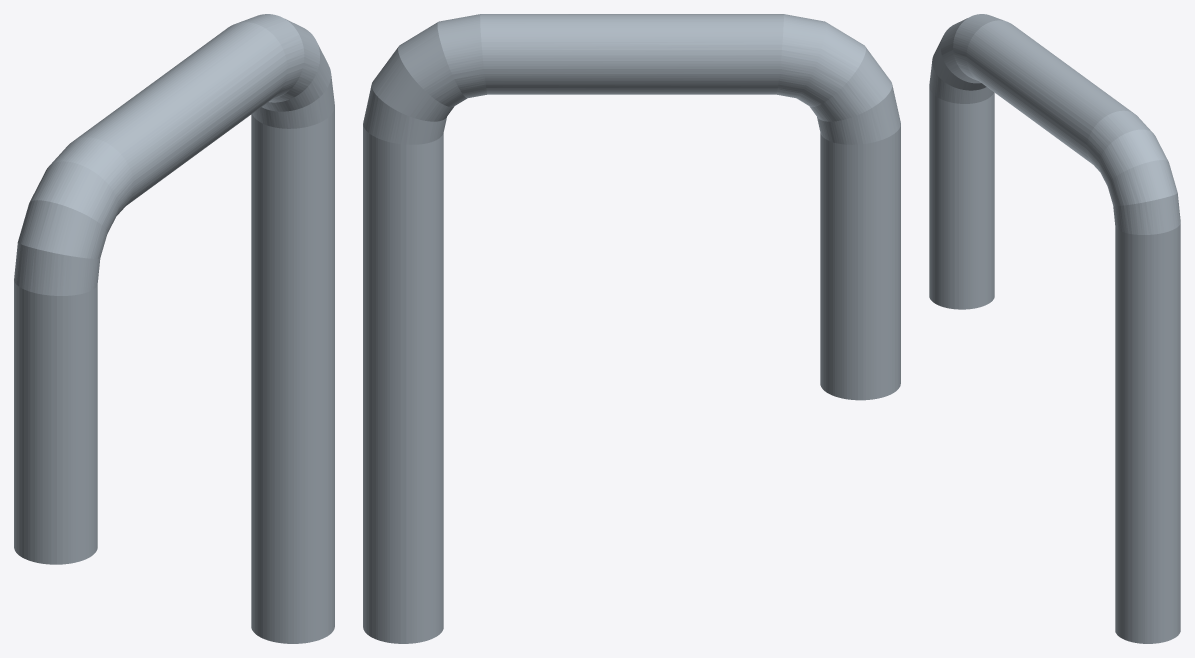
Rendered from shop_s0101001.gltf.
The picture shows the model from 3 angles, left to right: view 1: azimuth 30°, elevation 25°; view 2: azimuth 150°, elevation 25°; view 3: azimuth 270°, elevation 25°; orthographic projection. The views are drawn at different scales.
Visible parts, largest first — view 1: 100186_ROUND6; view 2: 100186_ROUND6; view 3: 100186_ROUND6.
Boxes of the visible parts, x1,y1,x2,y2 form: 100186_ROUND6: (14,14,334,643); 100186_ROUND6: (363,14,900,643); 100186_ROUND6: (929,14,1180,643).
Size of the model in its own units: 0.0354 by 0.05 by 0.023.
